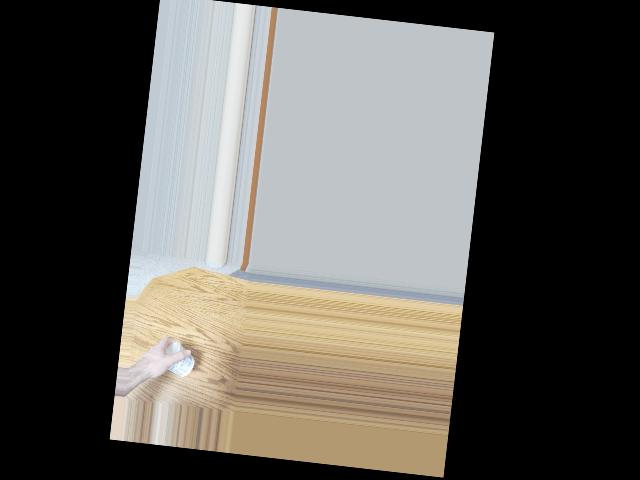cotage: (162, 339, 197, 382)
